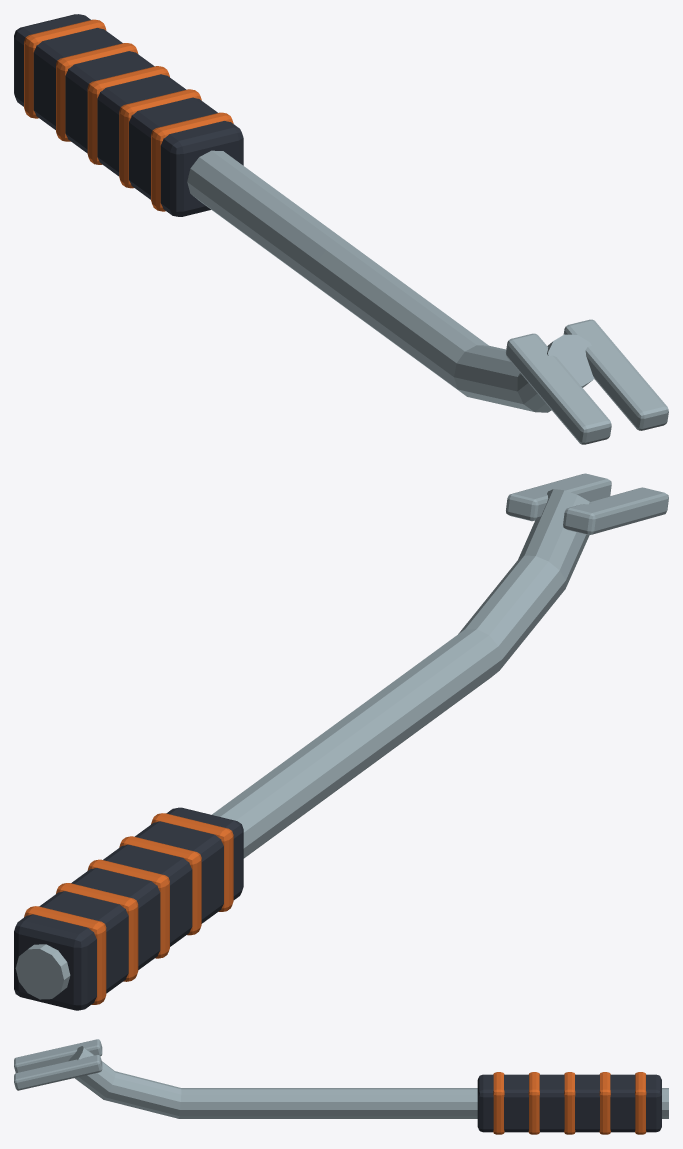
Rendered from BrunoPryBar.fbx.
3 views of the same model, one above another, from view 1: azimuth 30°, elevation 25°; view 2: azimuth 150°, elevation 25°; view 3: azimuth 270°, elevation 25° (orthographic). The views are drawn at different scales.
Visible parts, largest first — view 1: BrunoPryBar_Mesh; view 2: BrunoPryBar_Mesh; view 3: BrunoPryBar_Mesh.
Part boxes in pixels (<box>): BrunoPryBar_Mesh: <box>14,14,668,444</box>; BrunoPryBar_Mesh: <box>14,473,668,1010</box>; BrunoPryBar_Mesh: <box>14,1039,668,1134</box>.
Size of the model in its own units: 4 by 6.09 by 46.22.
